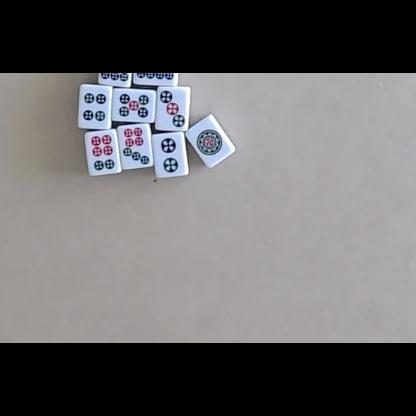1p: (196, 129, 223, 156)
2p: (160, 138, 179, 174)
3p: (159, 89, 186, 128)
4p: (83, 92, 107, 123)
5p: (118, 93, 150, 119)
6p: (91, 134, 115, 171)
7p: (123, 127, 150, 165)
8p: (135, 73, 174, 81)
9p: (100, 73, 131, 81)
